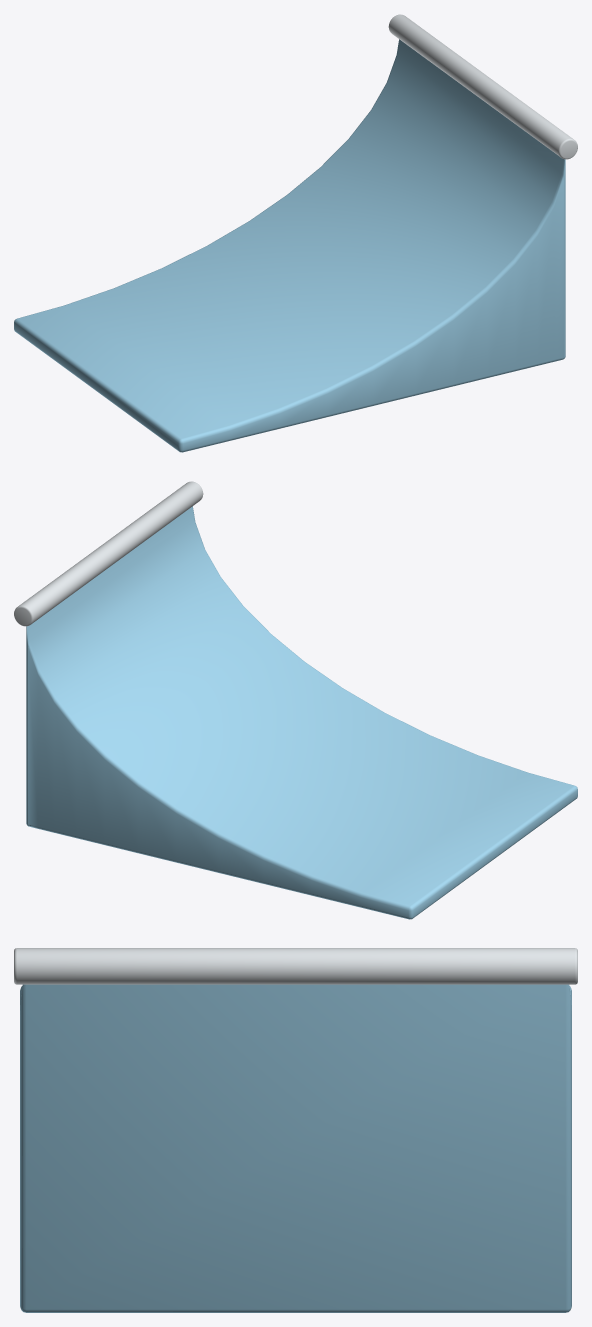
The model's file is ramp.glb.
3 views of the same model, one above another, from view 1: azimuth 30°, elevation 25°; view 2: azimuth 150°, elevation 25°; view 3: azimuth 270°, elevation 25° (orthographic). The views are drawn at different scales.
Parts seen in each view (by area): view 1: ramp_ramp_blue, ramp_ramp_coping; view 2: ramp_ramp_blue, ramp_ramp_coping; view 3: ramp_ramp_blue, ramp_ramp_coping.
Part boxes in pixels (<box>): ramp_ramp_blue: <box>14,39,565,452</box>; ramp_ramp_coping: <box>388,14,577,159</box>; ramp_ramp_blue: <box>26,506,577,919</box>; ramp_ramp_coping: <box>14,481,203,626</box>; ramp_ramp_blue: <box>20,984,571,1312</box>; ramp_ramp_coping: <box>14,948,577,984</box>.
Size of the model in its own units: 4.92 by 2.63 by 3.68.
